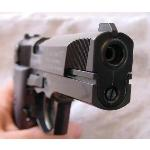Pistol: (13, 21, 136, 135)
